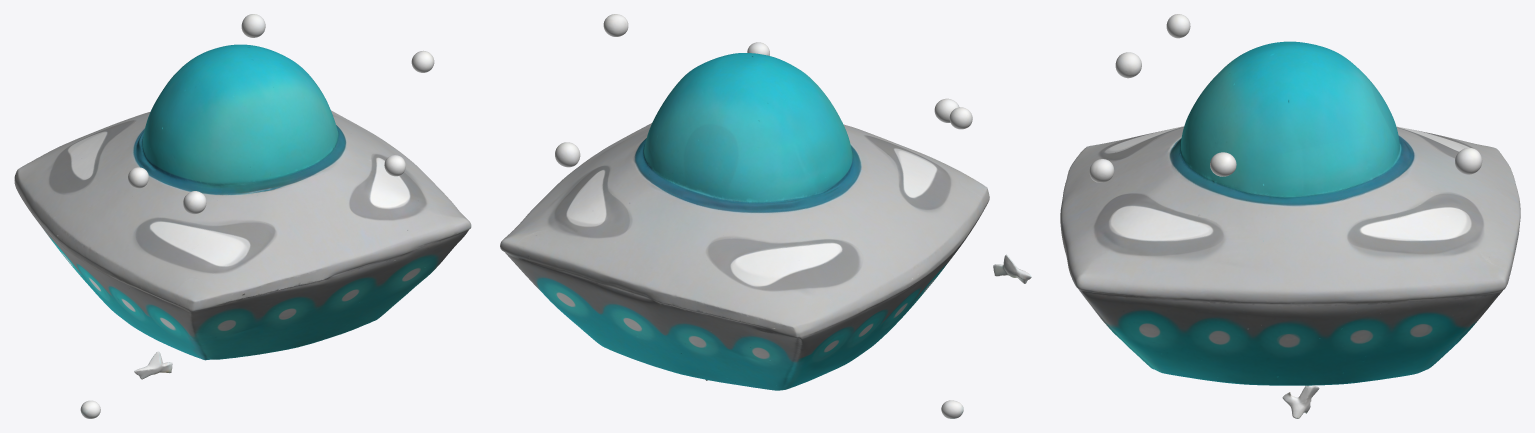
Rendered from Flying_Object.glb.
The picture shows the model from 3 angles, left to right: view 1: azimuth 30°, elevation 25°; view 2: azimuth 150°, elevation 25°; view 3: azimuth 270°, elevation 25°; orthographic projection. The views are drawn at different scales.
Bounding box in the file's own units: 2 × 1.68 × 2.
1 material, 1 textured.
